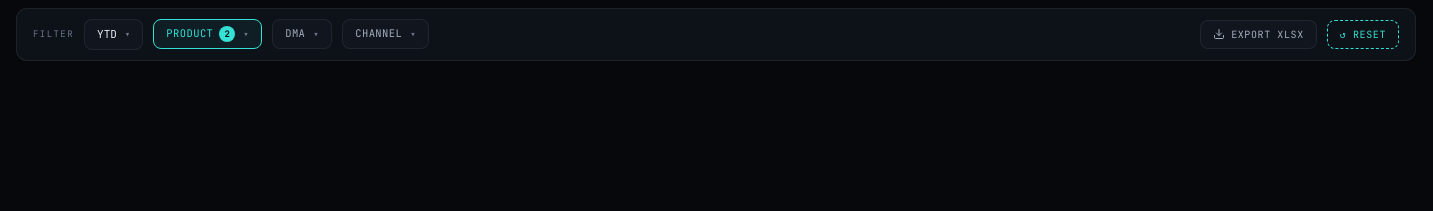
Scenario: FilterBar interactions › reset button clears filters back to defaults
This screenshot has width=1433, height=211.
Change date range
Click the button with aria-label "Date range" at (114, 34), box [84, 19, 143, 50]
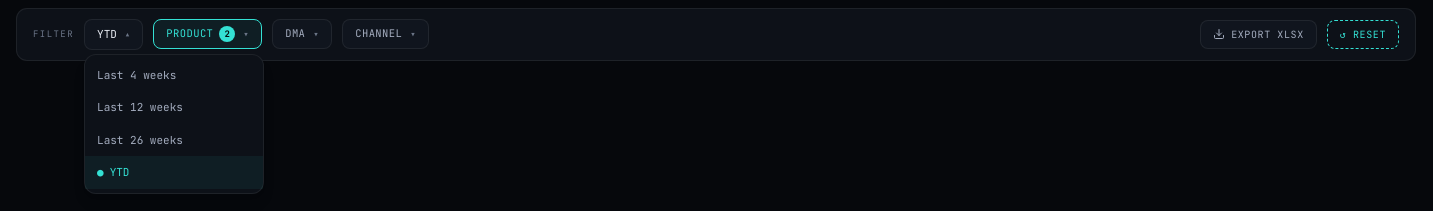
Click the option "●YTD" at (174, 172), box [85, 156, 263, 188]
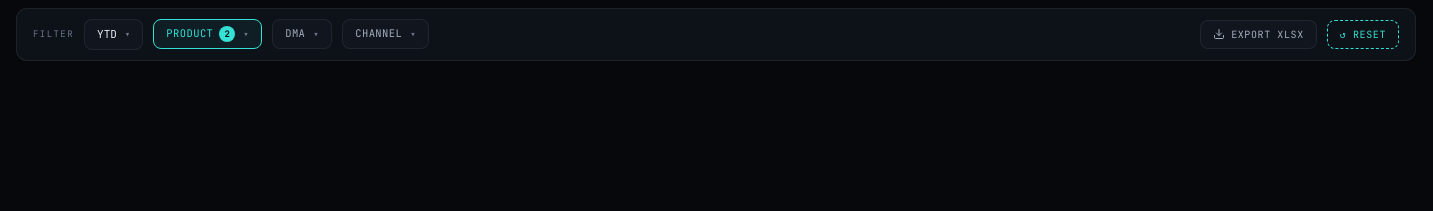
Expected: the button with aria-label "Date range" shows "YTD", [84, 19, 143, 50]
Click reset
Click the button "↺ RESET" at (1363, 34), box [1327, 20, 1399, 49]
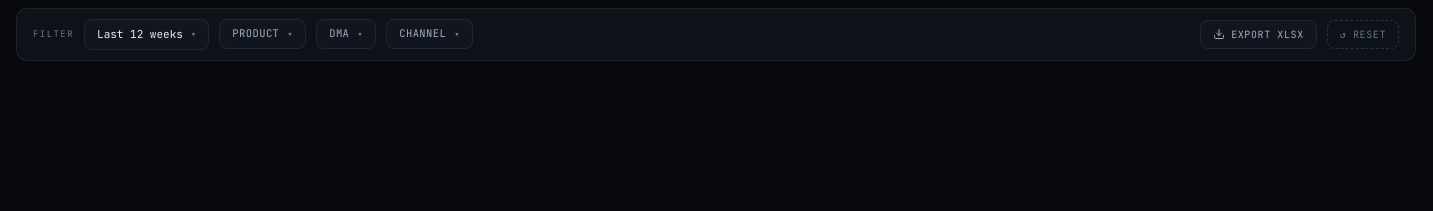
Expected: the button with aria-label "Date range" shows "Last 12 weeks", [84, 19, 209, 50]
